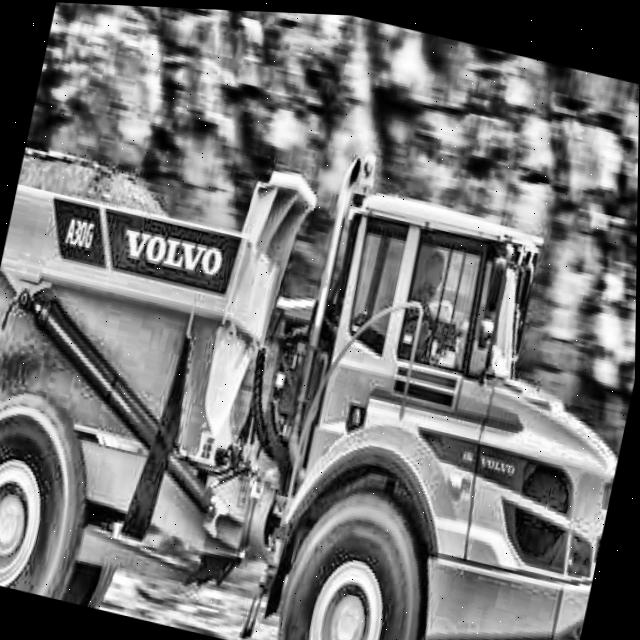dump_truck: (0, 43, 639, 640)
